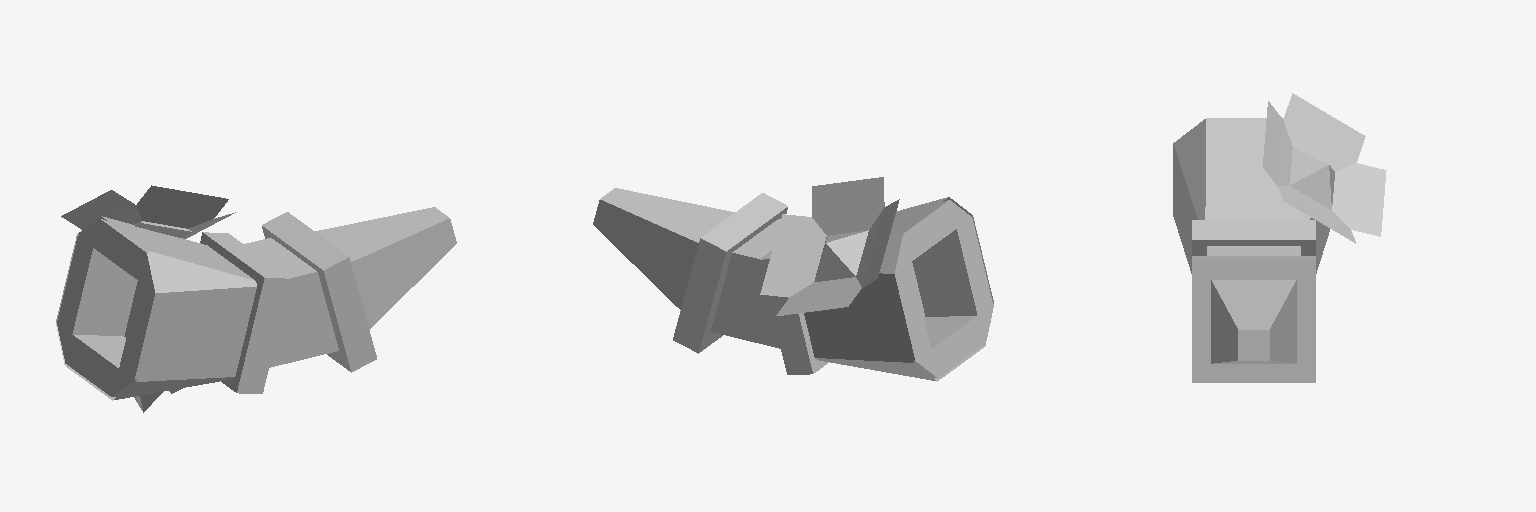
The model's file is horn_fae.obj.
3 views of the same model, side by side, from view 1: azimuth 30°, elevation 25°; view 2: azimuth 150°, elevation 25°; view 3: azimuth 270°, elevation 25° (orthographic).
Parts seen in each view (by area): view 1: HORN_EXTRA_FAE_Plane.002, HORN_END_Cube.012, HORN_START_Cube.008, BRACE_START_Cube.009, BRACE_END_Cube.010, HORN_MID_Cube.007; view 2: HORN_EXTRA_FAE_Plane.002, HORN_END_Cube.012, HORN_START_Cube.008, BRACE_START_Cube.009, HORN_MID_Cube.007, BRACE_END_Cube.010; view 3: HORN_EXTRA_FAE_Plane.002, BRACE_START_Cube.009, HORN_START_Cube.008, BRACE_END_Cube.010, HORN_MID_Cube.007.
Part boxes in pixels (left/top/right/bottom): HORN_EXTRA_FAE_Plane.002: left=56, top=185, right=256, bottom=412; HORN_END_Cube.012: left=57, top=219, right=157, bottom=396; HORN_START_Cube.008: left=315, top=207, right=456, bottom=329; BRACE_START_Cube.009: left=262, top=212, right=376, bottom=372; BRACE_END_Cube.010: left=200, top=232, right=290, bottom=393; HORN_MID_Cube.007: left=244, top=238, right=338, bottom=367; HORN_EXTRA_FAE_Plane.002: left=760, top=177, right=993, bottom=381; HORN_END_Cube.012: left=893, top=200, right=992, bottom=377; HORN_START_Cube.008: left=593, top=188, right=734, bottom=309; BRACE_START_Cube.009: left=673, top=193, right=787, bottom=353; HORN_MID_Cube.007: left=711, top=219, right=780, bottom=348; BRACE_END_Cube.010: left=760, top=251, right=828, bottom=374; HORN_EXTRA_FAE_Plane.002: left=1173, top=93, right=1386, bottom=273; BRACE_START_Cube.009: left=1192, top=256, right=1315, bottom=382; HORN_START_Cube.008: left=1211, top=280, right=1296, bottom=363; BRACE_END_Cube.010: left=1192, top=220, right=1315, bottom=255; HORN_MID_Cube.007: left=1207, top=246, right=1300, bottom=255.
Bounding box in the file's own units: 0.8379 × 0.4519 × 0.4286.